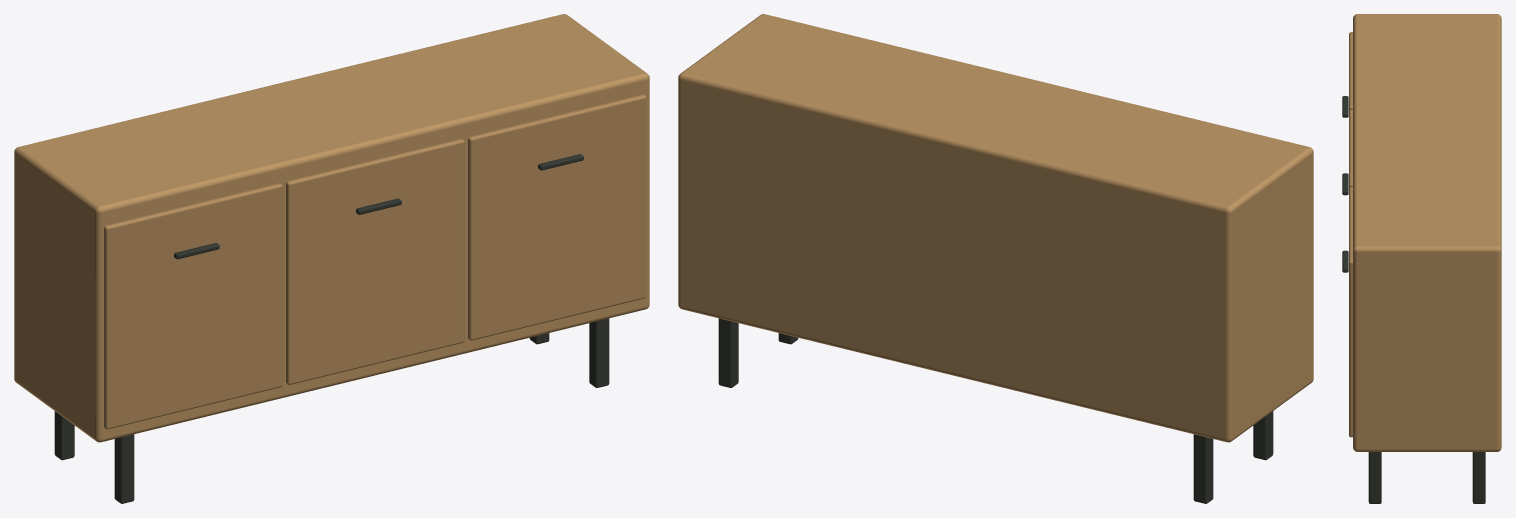
File: line-sideboard-oak.glb
3 views of the same model, side by side, from view 1: azimuth 30°, elevation 25°; view 2: azimuth 150°, elevation 25°; view 3: azimuth 270°, elevation 25° (orthographic). The views are drawn at different scales.
Parts seen in each view (by area): view 1: The Line Sideboard — Oak; view 2: The Line Sideboard — Oak; view 3: The Line Sideboard — Oak.
Boxes of the visible parts, x1,y1,x2,y2 form: The Line Sideboard — Oak: [14, 14, 649, 503]; The Line Sideboard — Oak: [678, 14, 1313, 503]; The Line Sideboard — Oak: [1342, 14, 1501, 503].
Size of the model in its own units: 1.4 by 0.75 by 0.4.
